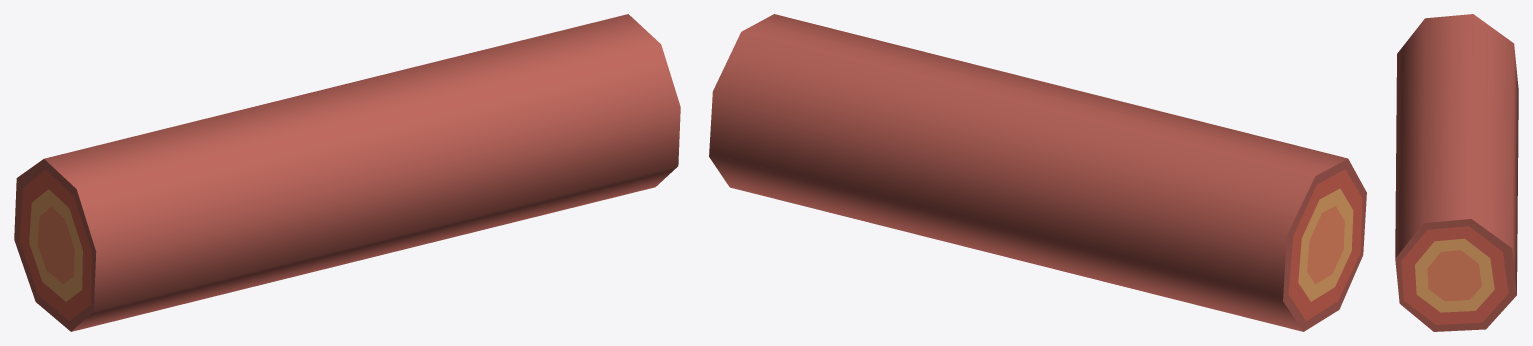
Rendered from Log3_summer.FBX.
3 renders of one model, left to right at view 1: azimuth 30°, elevation 25°; view 2: azimuth 150°, elevation 25°; view 3: azimuth 270°, elevation 25°, orthographic. The views are drawn at different scales.
Parts seen in each view (by area): view 1: brevno summer; view 2: brevno summer; view 3: brevno summer.
Part boxes in pixels (box(x1,y1,x2,y2)): brevno summer: box(14, 14, 680, 331); brevno summer: box(709, 14, 1366, 331); brevno summer: box(1395, 14, 1518, 331).
Size of the model in its own units: 301 by 77.61 by 75.52.
